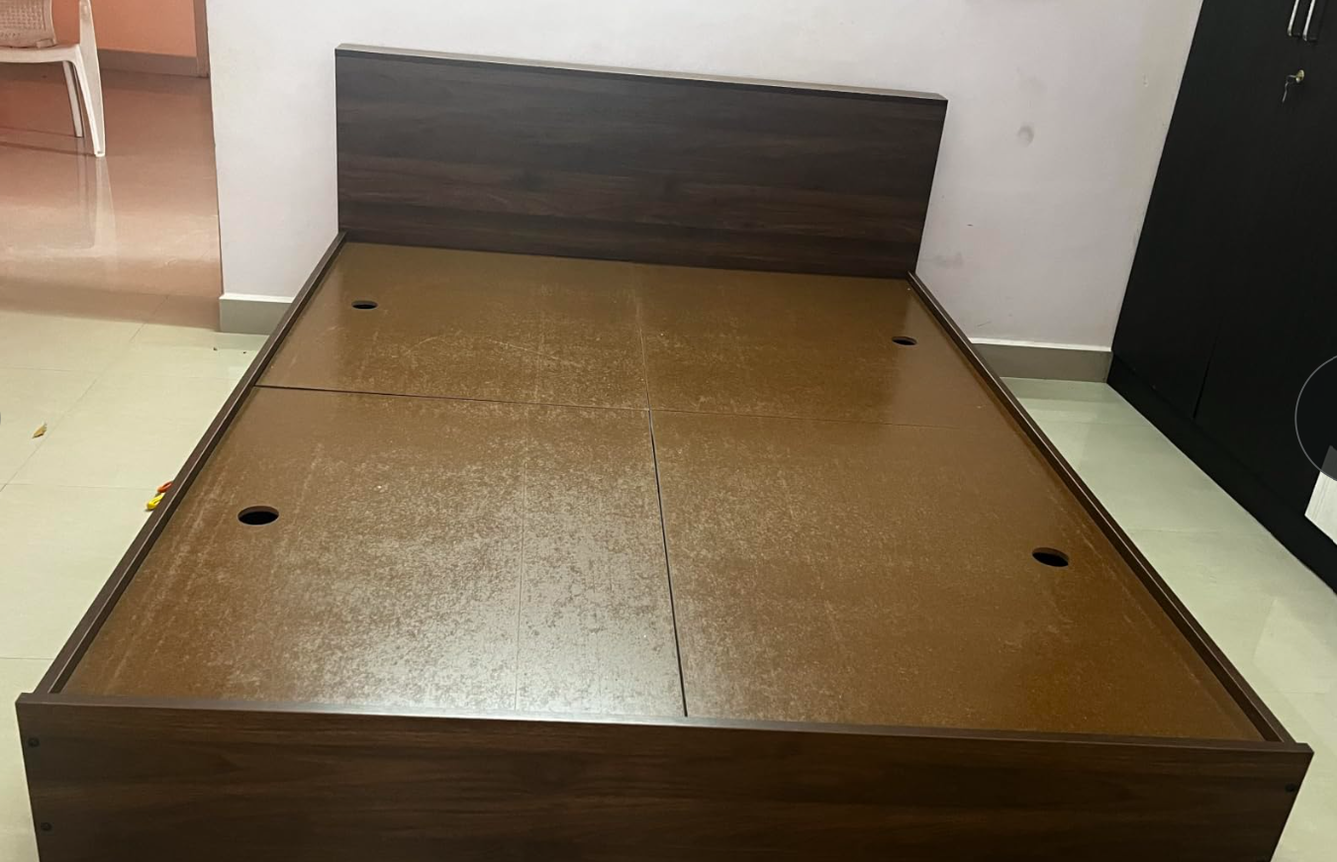cot: (0, 33, 1314, 862)
